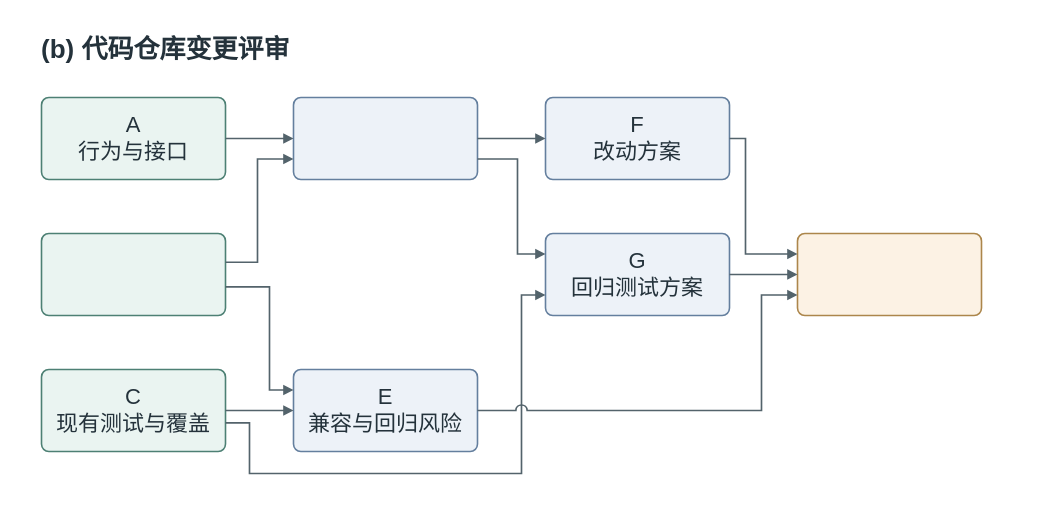
This 1042x522 diagram has some shape labels left out. The shapes that lost their labels are listed below. From the top down, each one's centre as x and y in pixels, then its label:
[385,138]: D 根因分析
[133,274]: B 实现与调用关系
[889,274]: H 最终评审
